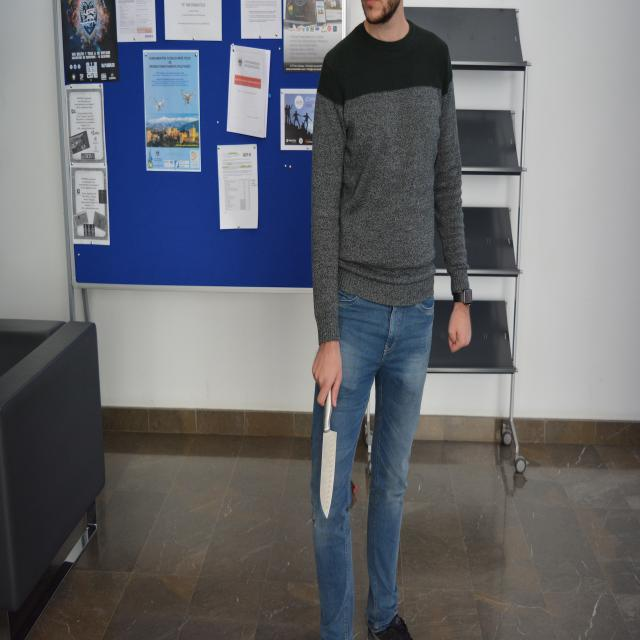knife: (320, 404, 340, 520)
